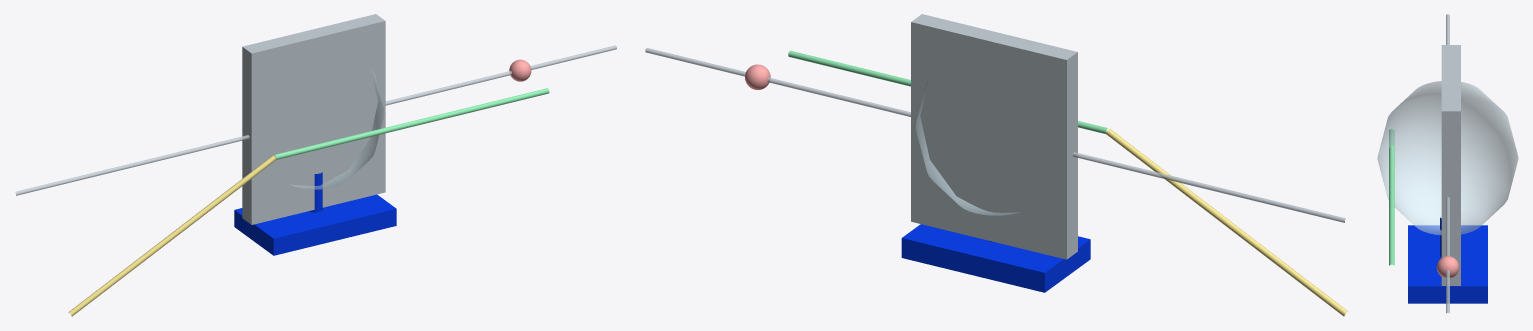
Rendered from lens.glb.
The picture shows the model from 3 angles, left to right: view 1: azimuth 30°, elevation 25°; view 2: azimuth 150°, elevation 25°; view 3: azimuth 270°, elevation 25°; orthographic projection. The views are drawn at different scales.
Parts seen in each view (by area): view 1: lens_rim, lens_stand, optical_axis, refracted_ray, incident_ray, lens_glass; view 2: lens_rim, lens_stand, optical_axis, incident_ray, lens_glass, refracted_ray, focal_point; view 3: lens_glass, lens_stand, lens_rim, refracted_ray, optical_axis, focal_point.
Part boxes in pixels (<box>): lens_rim: <box>242,14,385,224</box>; lens_stand: <box>234,194,396,255</box>; optical_axis: <box>15,45,616,195</box>; refracted_ray: <box>275,88,549,159</box>; incident_ray: <box>68,155,276,316</box>; lens_glass: <box>290,68,384,189</box>; lens_rim: <box>911,14,1077,259</box>; lens_stand: <box>901,224,1090,292</box>; optical_axis: <box>645,47,1345,222</box>; incident_ray: <box>1105,129,1347,316</box>; lens_glass: <box>915,78,1020,215</box>; refracted_ray: <box>788,50,1107,133</box>; focal_point: <box>745,64,770,89</box>; lens_glass: <box>1377,81,1518,235</box>; lens_stand: <box>1408,225,1487,303</box>; lens_rim: <box>1441,45,1460,285</box>; refracted_ray: <box>1389,129,1394,265</box>; optical_axis: <box>1446,14,1449,313</box>; focal_point: <box>1436,256,1459,278</box>.
Bounding box in the file's own units: 1.88 × 0.5832 × 0.3752.
